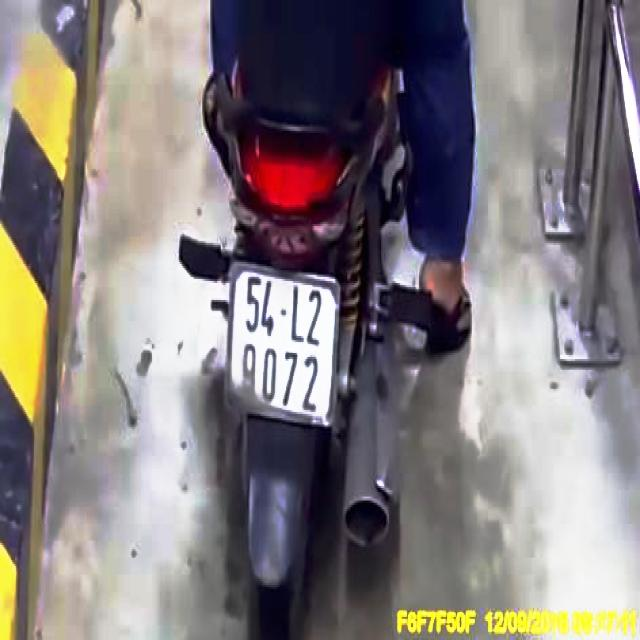license_plate: (230, 259, 337, 425)
